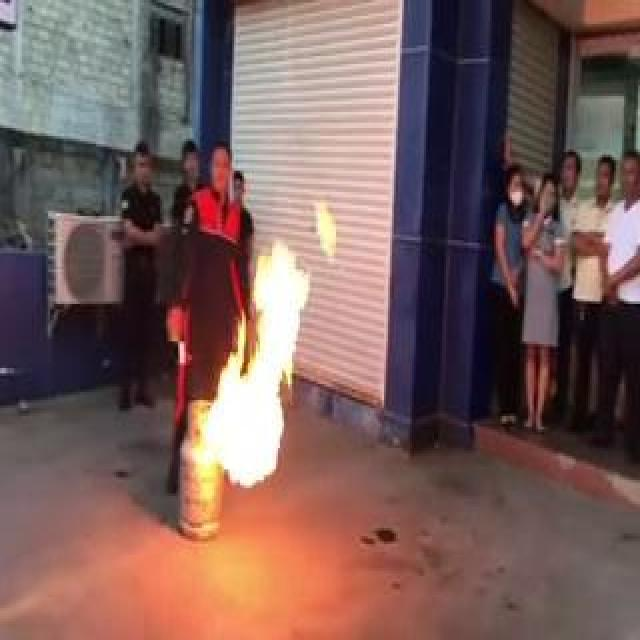Smoke: (200, 233, 312, 492)
